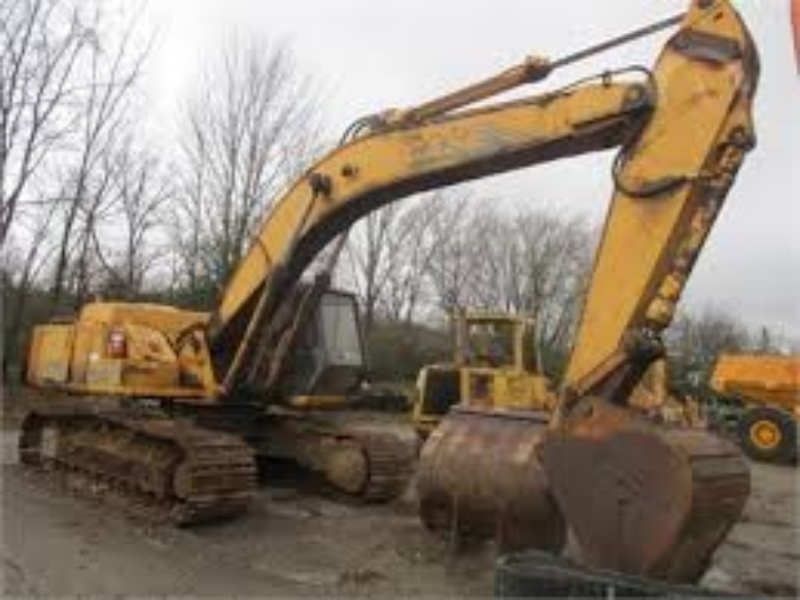wajueji: (26, 164, 731, 578)
